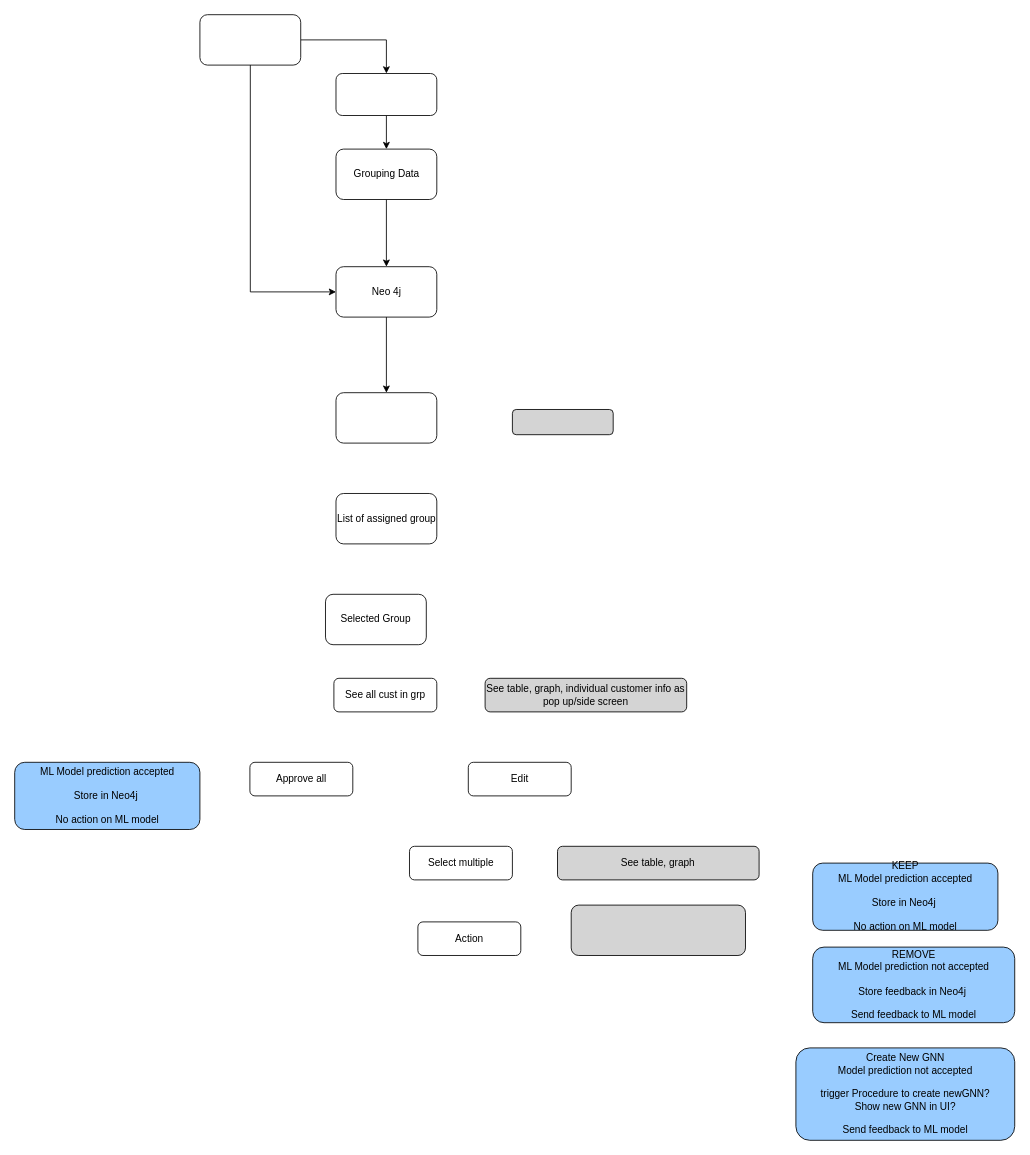
Some shapes in this 1030 by 1155 pixel diagram are drawn without their labels. Here are the shapes that lost their labels. From the top down, the centre of each, then its label:
At point (250, 39): "Customer data".
At point (386, 94): "ML Model".
At point (386, 417): "ACRA UI".
At point (562, 422): "UI log in".
At point (658, 930): "Keep Remove Create new".
